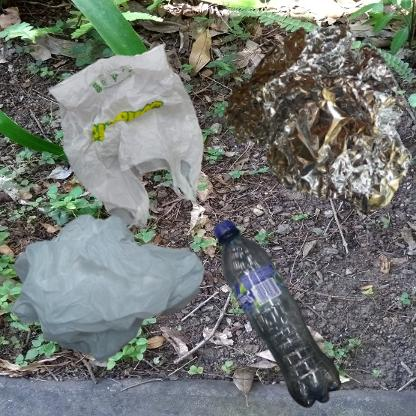aluminio: (213, 10, 416, 222)
bolsa: (10, 10, 261, 269), (10, 213, 206, 365)
botella: (213, 213, 345, 416)
